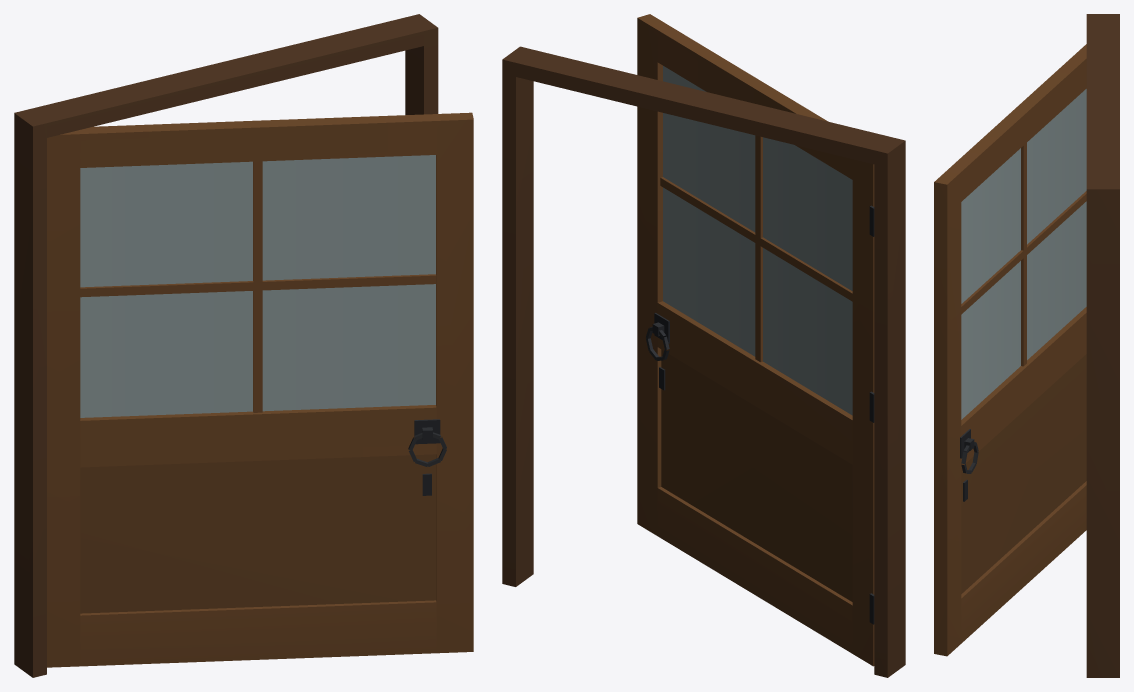
File: door.oak_ajar.glazed.glb
3 views of the same model, side by side, from view 1: azimuth 30°, elevation 25°; view 2: azimuth 150°, elevation 25°; view 3: azimuth 270°, elevation 25° (orthographic). The views are drawn at different scales.
Visible parts, largest first — view 1: door_oak_ajar_glazed; view 2: door_oak_ajar_glazed; view 3: door_oak_ajar_glazed.
Boxes of the visible parts, left/top/right/bottom form: door_oak_ajar_glazed: left=14, top=14, right=473, bottom=677; door_oak_ajar_glazed: left=502, top=14, right=905, bottom=677; door_oak_ajar_glazed: left=934, top=14, right=1119, bottom=677.
Size of what is drawn, in the model's own units: 2 by 2.6 by 0.896.
